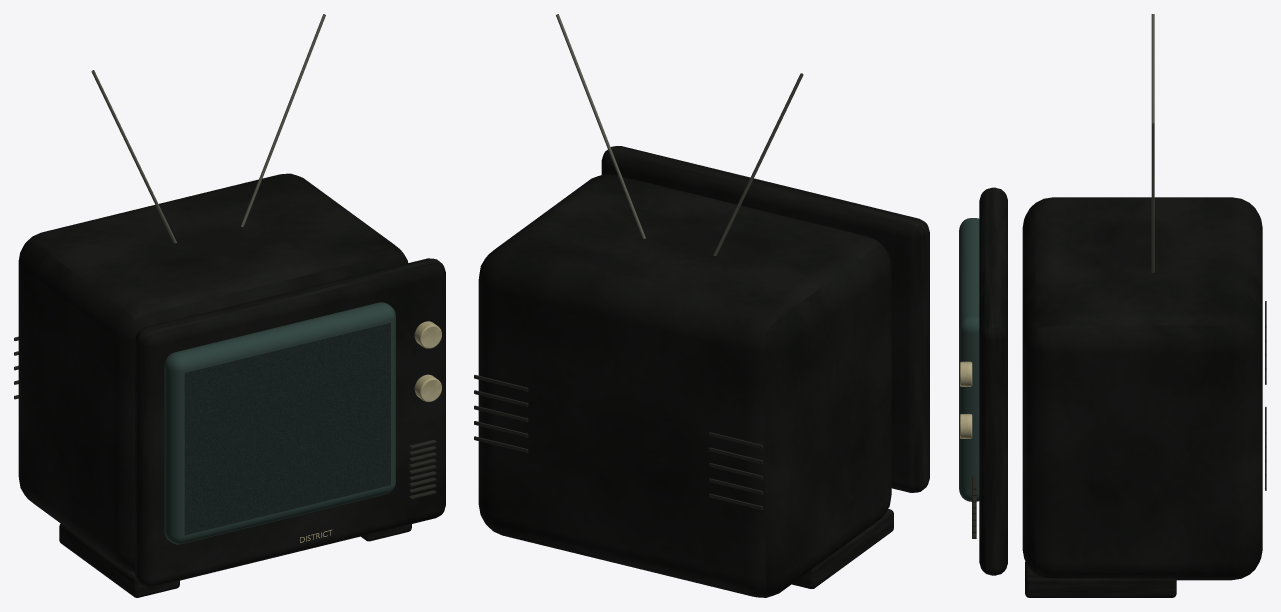
The picture shows the model from 3 angles, left to right: view 1: azimuth 30°, elevation 25°; view 2: azimuth 150°, elevation 25°; view 3: azimuth 270°, elevation 25°; orthographic projection. The views are drawn at different scales.
Visible parts, largest first — view 1: CRT rear chassis, CRT front bezel, Subtle phosphor image, Convex glass face, TV foot, Telescoping aerial.001, Telescoping aerial, Tuning knob, Tuning knob.001; view 2: CRT rear chassis, CRT front bezel, TV foot, Telescoping aerial.001, Telescoping aerial; view 3: CRT rear chassis, CRT front bezel, Convex glass face, TV foot.001, Telescoping aerial.001, Telescoping aerial.
Part boxes in pixels (x1,y1,x2,y2): CRT rear chassis: (18,173,407,572); CRT front bezel: (135,258,445,587); Subtle phosphor image: (184,322,390,535); Convex glass face: (164,302,395,544); TV foot: (59,523,179,597); Telescoping aerial.001: (240,14,325,226); Telescoping aerial: (91,70,176,243); Tuning knob: (414,374,441,401); Tuning knob.001: (414,321,441,348); CRT rear chassis: (478,174,891,597); CRT front bezel: (601,146,929,492); TV foot: (792,509,893,588); Telescoping aerial.001: (556,14,645,238); Telescoping aerial: (713,73,803,255); CRT rear chassis: (1022,197,1262,580); CRT front bezel: (979,187,1007,575); Convex glass face: (959,218,979,501); TV foot.001: (1025,562,1176,597); Telescoping aerial.001: (1151,123,1154,272); Telescoping aerial: (1151,14,1154,123).
Size of the model in its own units: 0.66 by 0.9812 by 0.5905.
6 materials, 4 textured.
